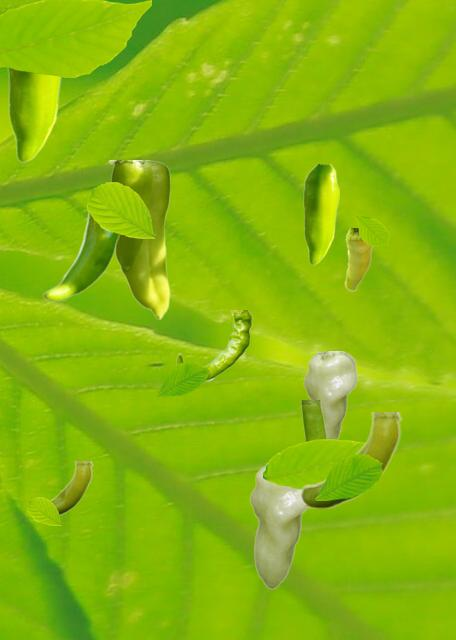green_chili: (299, 412, 401, 507), (108, 160, 169, 318), (249, 462, 309, 588), (42, 212, 120, 301), (7, 69, 64, 162), (176, 310, 251, 380), (303, 351, 356, 438), (303, 164, 338, 264), (300, 400, 326, 506), (50, 461, 92, 515), (344, 228, 372, 290)
